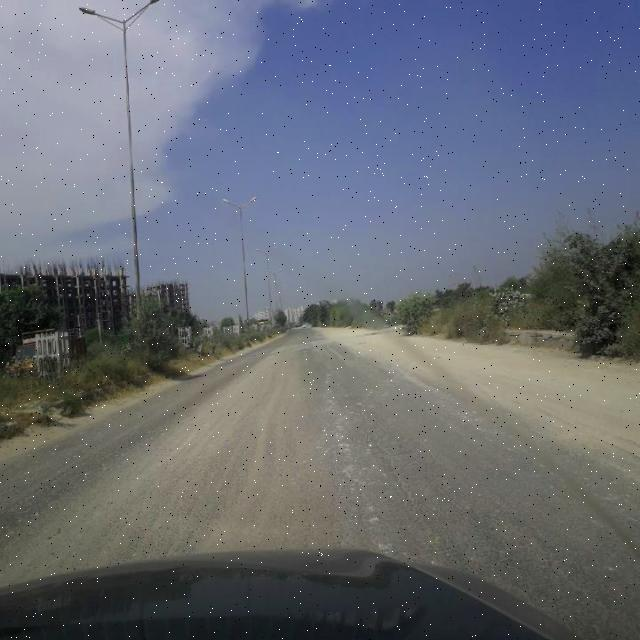D00: (348, 385, 449, 546)
D20: (370, 421, 621, 618)
